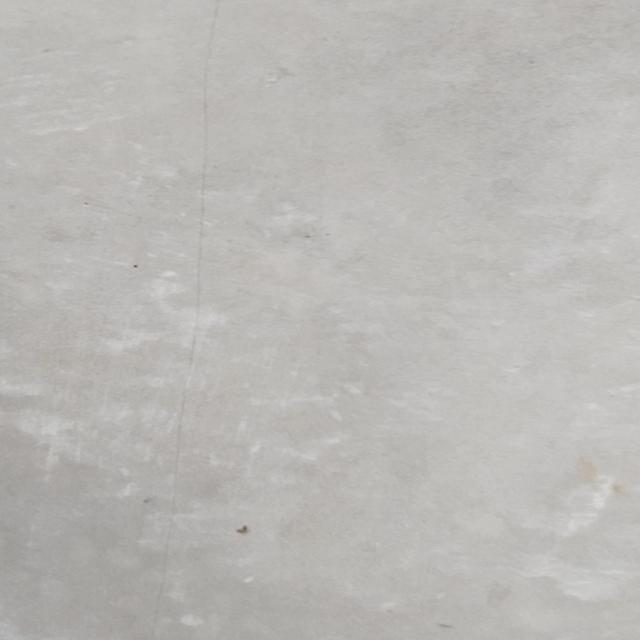Crack: (148, 3, 222, 639)
